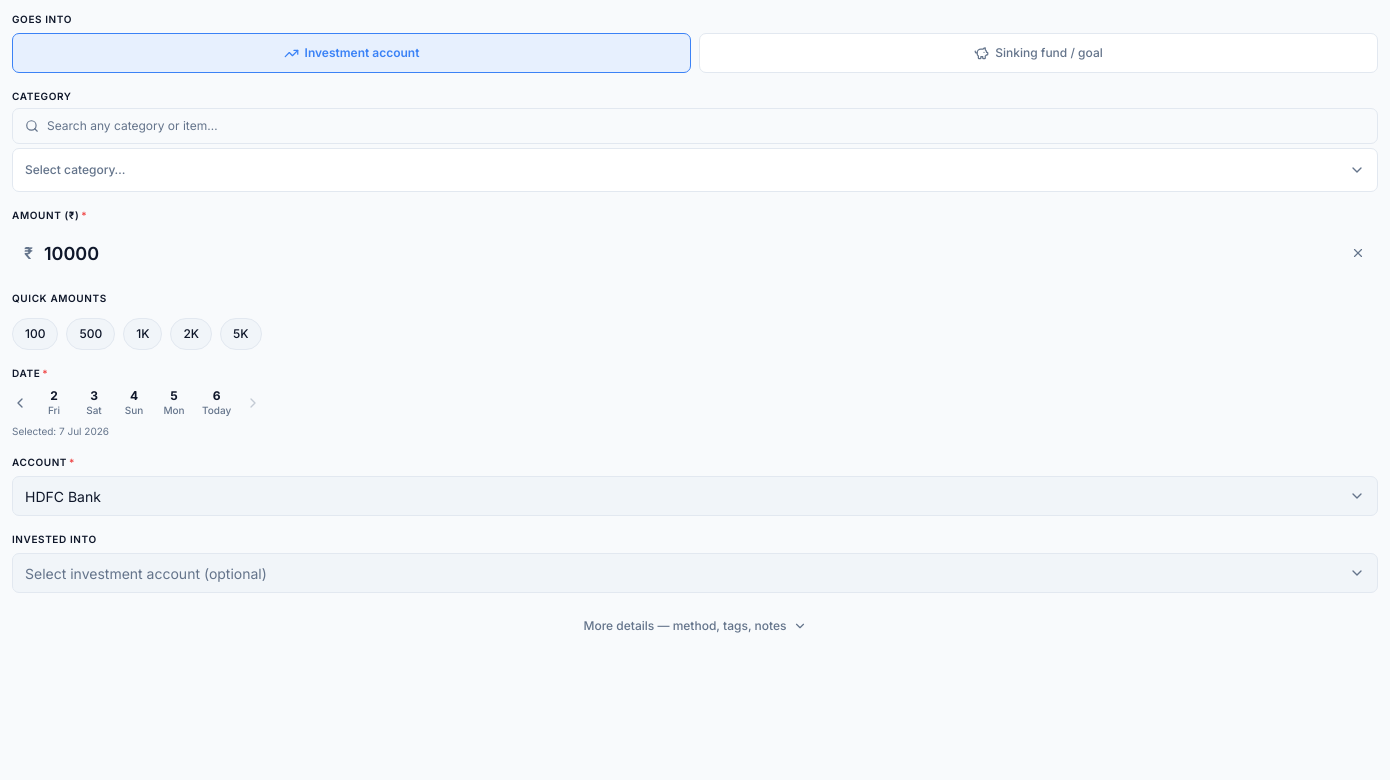
Test: InvestmentForm — Investment account destination › excludes the current source account from the destination options
Click the dropdown named "invested into" at (146, 573), box [12,553,1378,593]
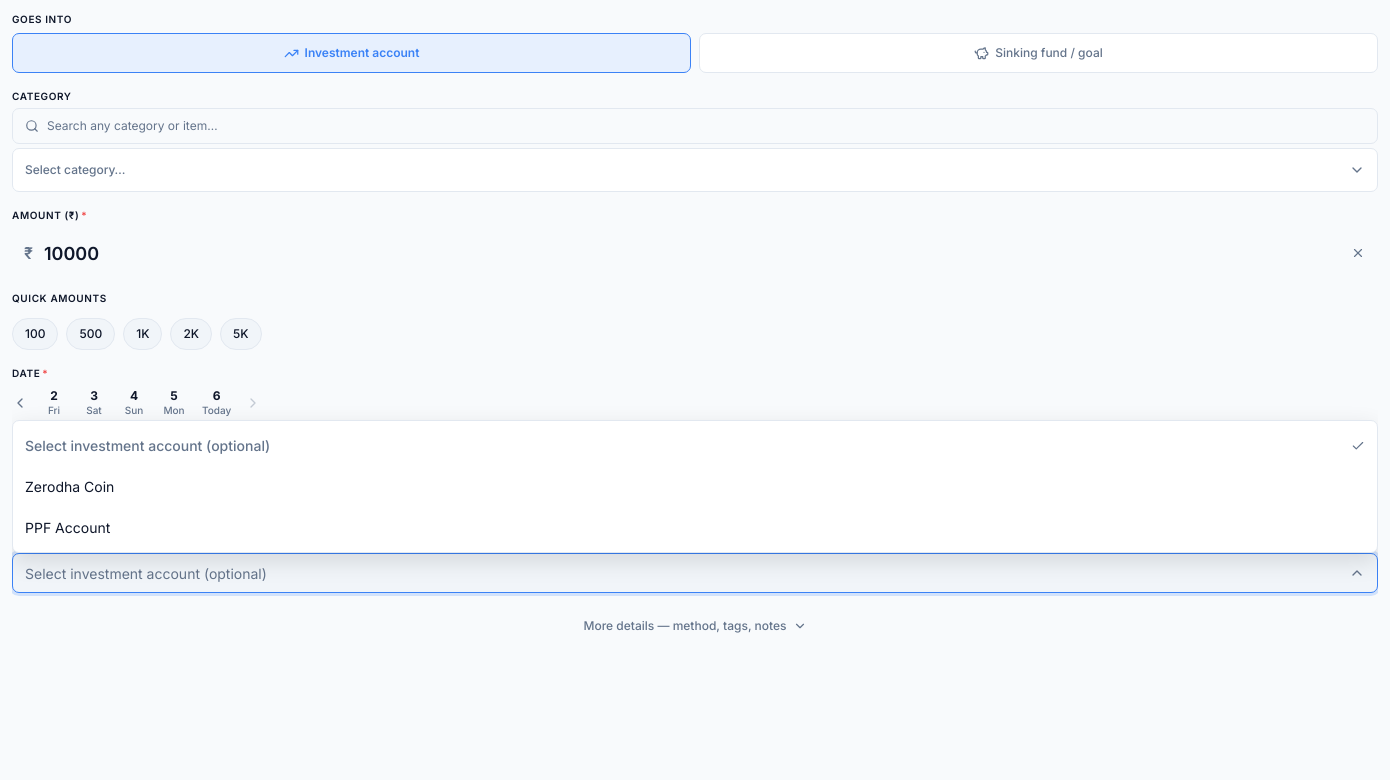
Expected: the option "Zerodha Coin" is shown, [25,478,114,495]
Expected: the option "PPF Account" is shown, [25,519,110,536]
